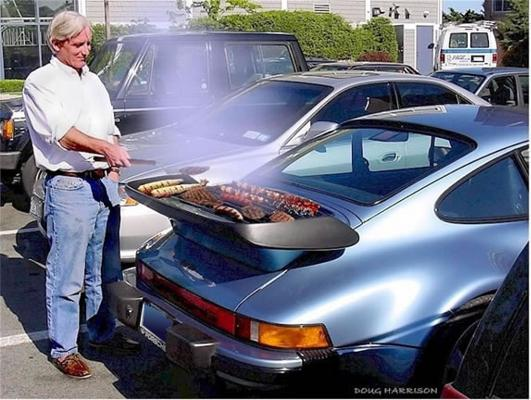person: (23, 10, 133, 379)
